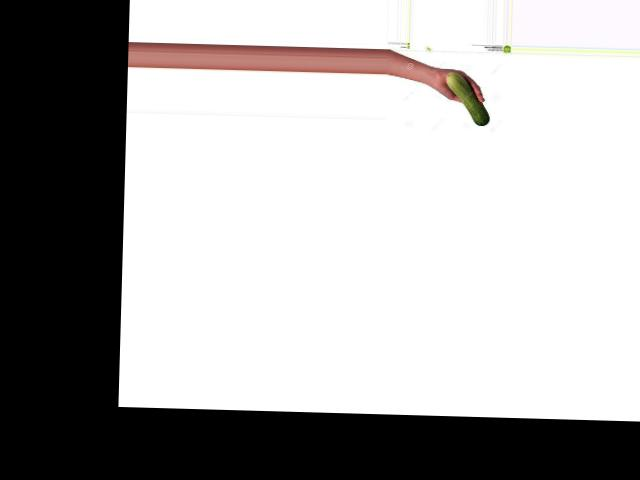cucumber: (444, 71, 489, 125)
